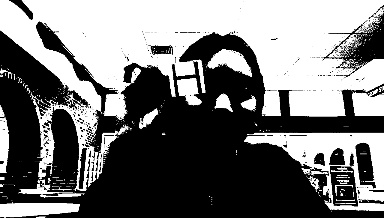H: (167, 60, 204, 97)
